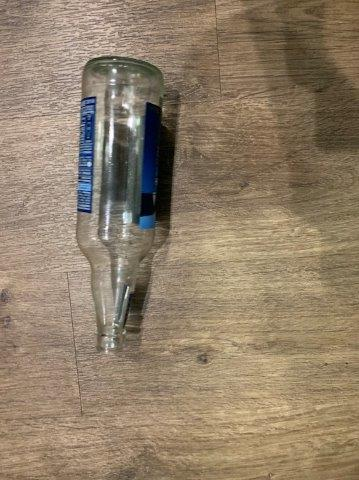botolkaca: (75, 54, 162, 351)
